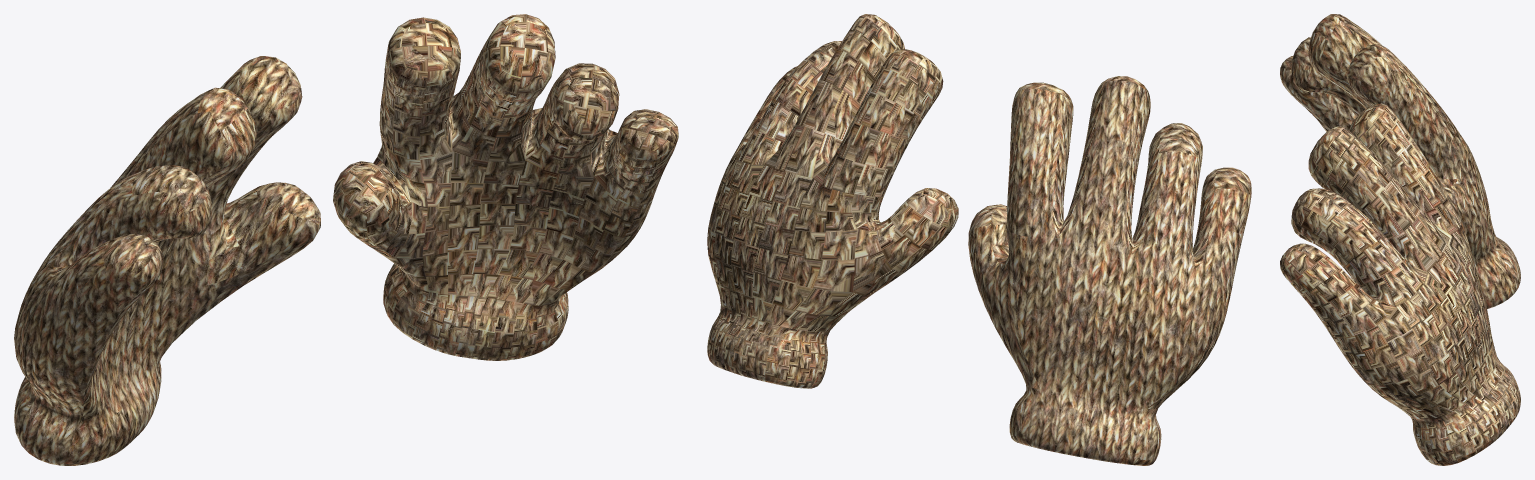
Rendered from GloveNew.obj.
3 views of the same model, side by side, from view 1: azimuth 30°, elevation 25°; view 2: azimuth 150°, elevation 25°; view 3: azimuth 270°, elevation 25° (orthographic). The views are drawn at different scales.
Parts seen in each view (by area): view 1: glovehi_poly; view 2: glovehi_poly; view 3: glovehi_poly.
Part boxes in pixels (x1,y1,x2,y2): glovehi_poly: [14, 14, 678, 465]; glovehi_poly: [707, 14, 1251, 465]; glovehi_poly: [1280, 14, 1520, 465].
Size of the model in its own units: 2.33 by 1.47 by 1.06.
Materials: 1 (1 with a texture image).
